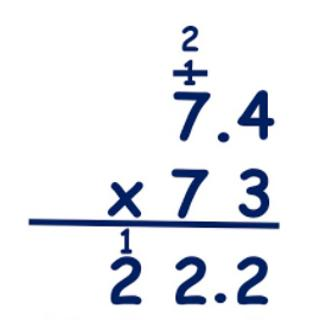.: (213, 126, 234, 147), (209, 286, 229, 308)
1: (114, 228, 140, 256)
2: (164, 252, 210, 309), (230, 248, 272, 310), (108, 256, 147, 308), (175, 20, 202, 57)
3: (230, 160, 274, 220)
4: (235, 83, 279, 146)
7: (164, 160, 212, 220), (164, 88, 212, 145)
